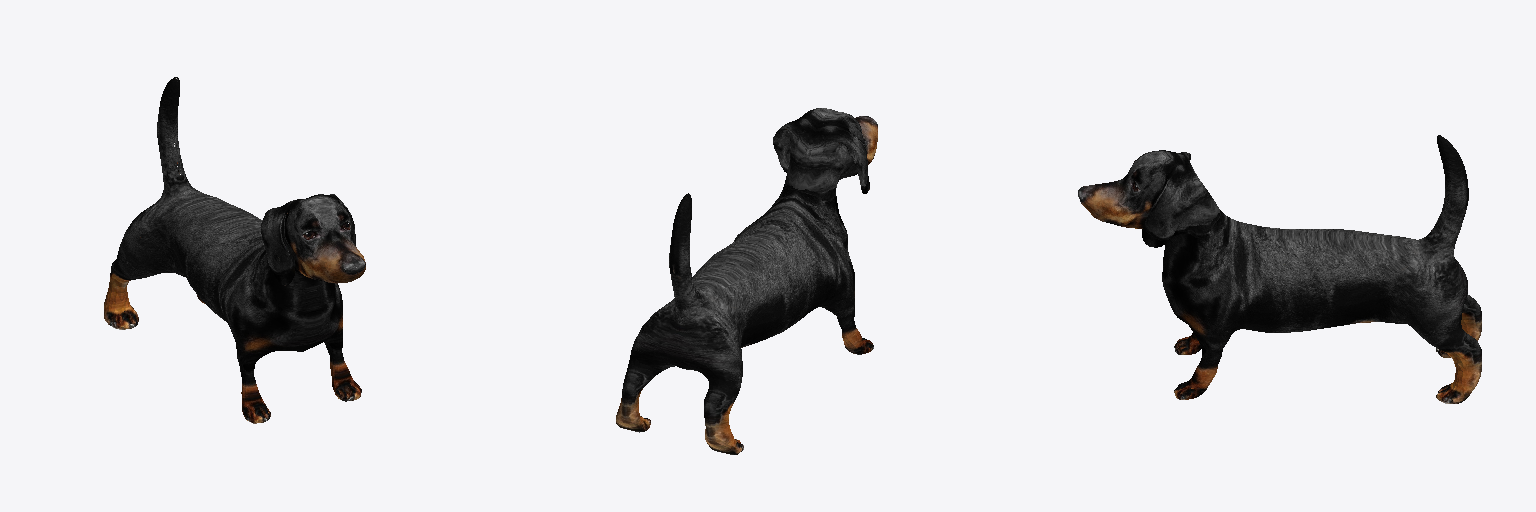
3 views of the same model, side by side, from view 1: azimuth 30°, elevation 25°; view 2: azimuth 150°, elevation 25°; view 3: azimuth 270°, elevation 25° (orthographic).
Parts seen in each view (by area): view 1: FBX.001; view 2: FBX.001; view 3: FBX.001.
Part boxes in pixels (x1,y1,x2,y2): FBX.001: (104,77,365,423); FBX.001: (616,108,877,454); FBX.001: (1078,135,1481,403).
Size of the model in its own units: 2.25 by 4.28 by 6.52.
Materials: 1 (1 with a texture image).